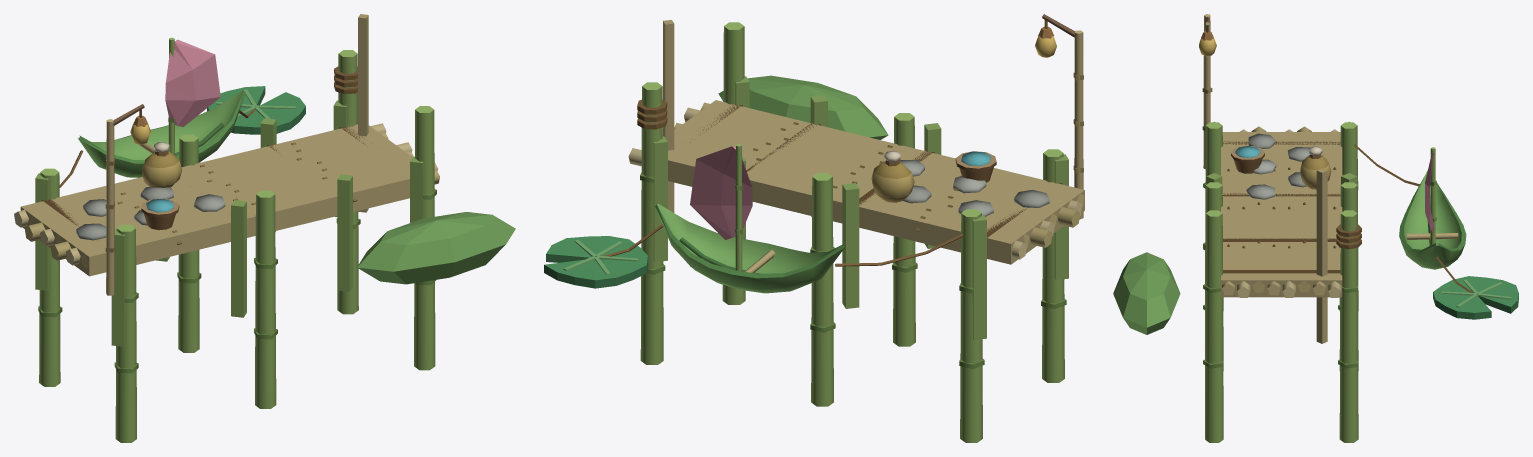
File: ferry.glb
3 views of the same model, side by side, from view 1: azimuth 30°, elevation 25°; view 2: azimuth 150°, elevation 25°; view 3: azimuth 270°, elevation 25° (orthographic). The views are drawn at different scales.
Visible parts, largest first — view 1: body__far, body, body_nl, body_nh; view 2: body, body__far, body_nl, body_nh; view 3: body, body__far, body_nh, body_nl.
Part boxes in pixels (x1=…): body__far: x1=20, y1=14, x2=515, y2=346; body: x1=14, y1=37, x2=439, y2=442; body_nl: x1=165, y1=39, x2=220, y2=126; body_nh: x1=59, y1=89, x2=295, y2=187; body: x1=544, y1=14, x2=1084, y2=442; body__far: x1=653, y1=20, x2=1084, y2=339; body_nl: x1=690, y1=146, x2=752, y2=239; body_nh: x1=563, y1=20, x2=1047, y2=274; body: x1=1199, y1=14, x2=1518, y2=442; body__far: x1=1113, y1=121, x2=1357, y2=343; body_nh: x1=1206, y1=25, x2=1511, y2=307; body_nl: x1=1425, y1=153, x2=1434, y2=233.
Size of the model in its own units: 3 by 2.41 by 3.01.
